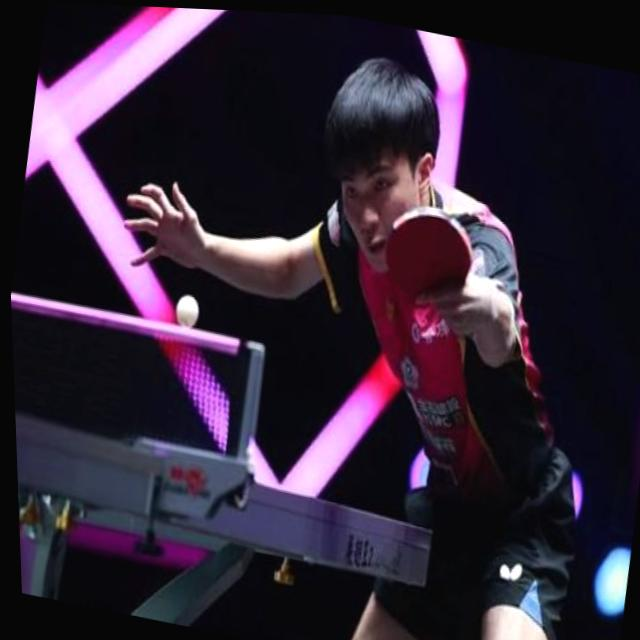TT Net: (11, 291, 265, 480)
TT Racket: (365, 180, 491, 319)
